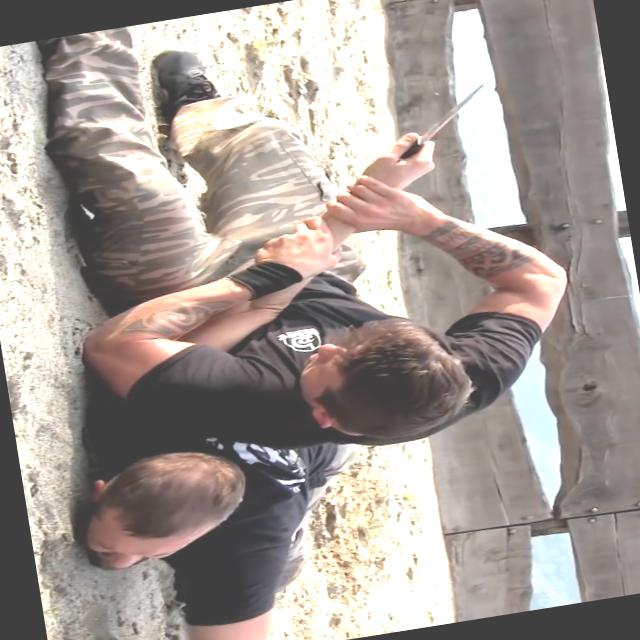knife: (342, 79, 506, 178)
